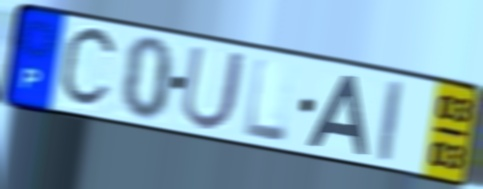0: (117, 33, 178, 123)
A: (305, 71, 371, 159)
C: (56, 23, 121, 112)
I: (377, 76, 406, 165)
L: (242, 55, 290, 145)
U: (178, 42, 249, 133)
